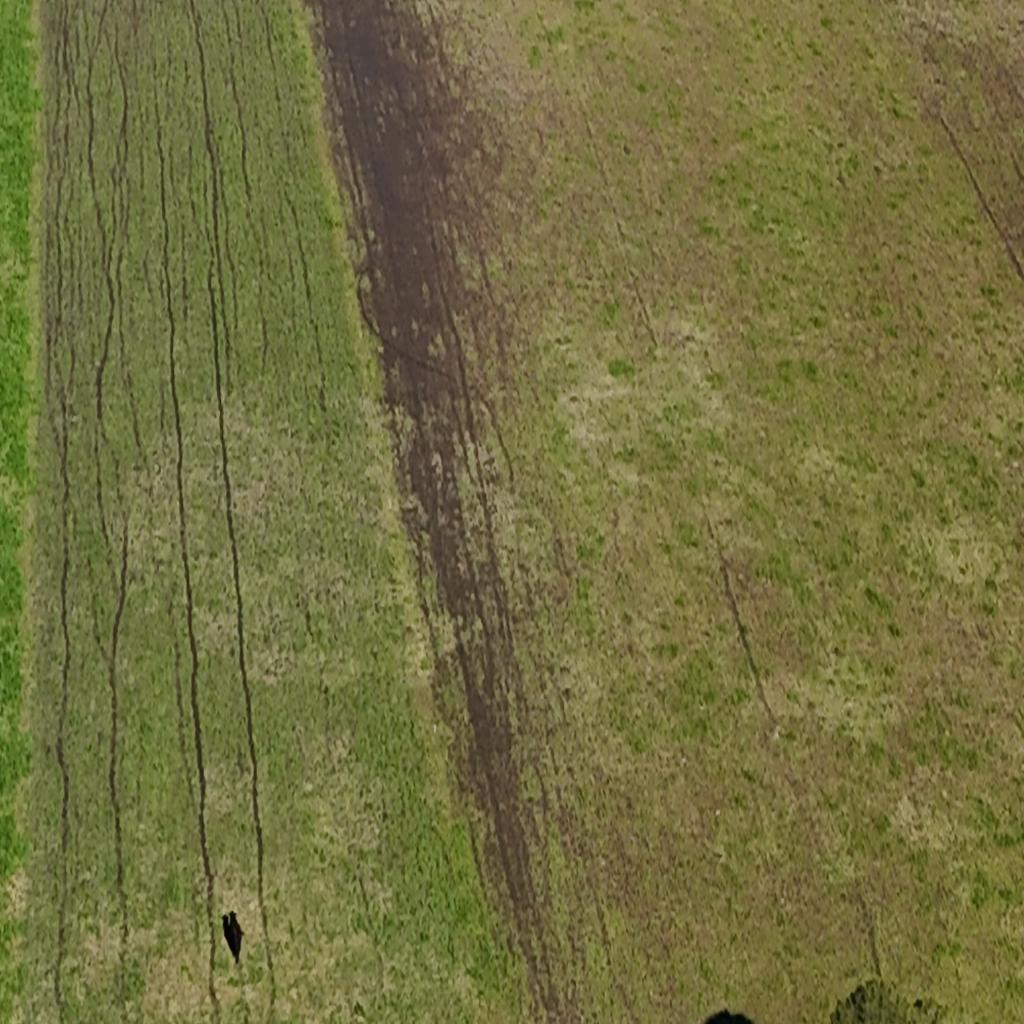cow: (221, 913, 239, 964)
